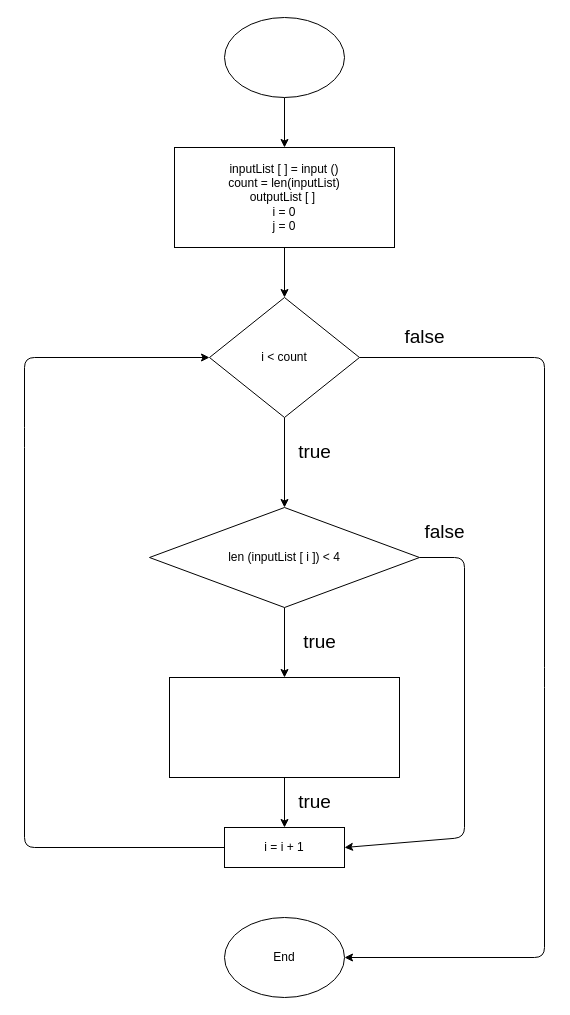
This 570x1015 diagram has some shape labels left out. Here are the shapes that lost their labels. From the top down, the centre of each, then its label:
the point at 284,57: Start
the point at 284,727: outputList [ j ] = inputList [ i ] j = j + 1
